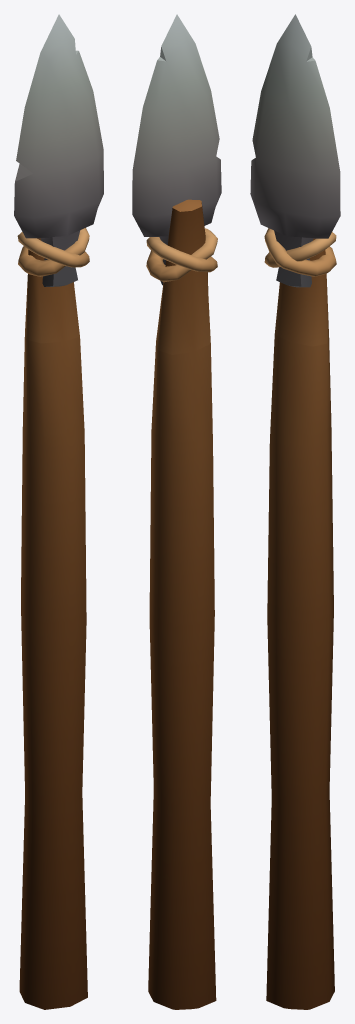
Rendered from Spear_02.glb.
3 views of the same model, side by side, from view 1: azimuth 30°, elevation 25°; view 2: azimuth 210°, elevation 25°; view 3: azimuth 330°, elevation 25° (orthographic).
Visible parts, largest first — view 1: Spear_02; view 2: Spear_02; view 3: Spear_02.
Boxes of the visible parts, x1,y1,x2,y2 form: Spear_02: (14, 14, 103, 1009); Spear_02: (132, 14, 221, 1009); Spear_02: (250, 14, 340, 1009).
Bounding box in the file's own units: 0.1351 × 1.43 × 0.0999.
Materials: 1 (1 with a texture image).
